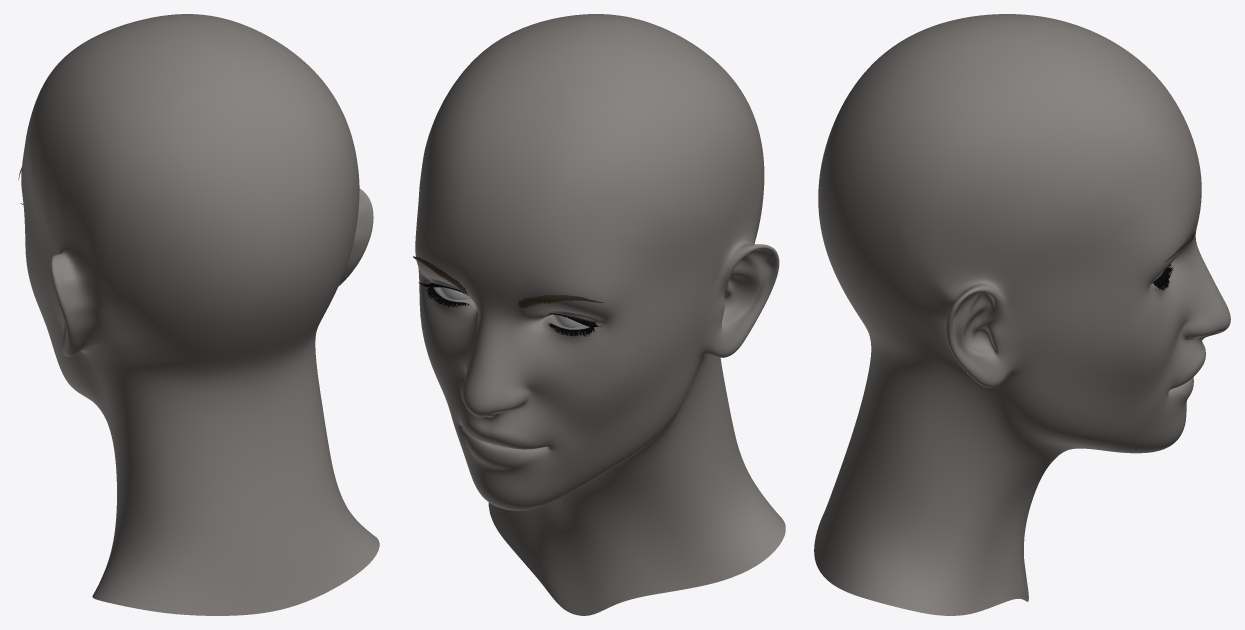
Rendered from Head.fbx.
3 renders of one model, left to right at view 1: azimuth 30°, elevation 25°; view 2: azimuth 150°, elevation 25°; view 3: azimuth 270°, elevation 25°, orthographic. The views are drawn at different scales.
Parts seen in each view (by area): view 1: Head; view 2: Head; view 3: Head.
Boxes of the visible parts, x1=… form: Head: x1=18, y1=14, x2=379, y2=615; Head: x1=413, y1=14, x2=785, y2=615; Head: x1=814, y1=14, x2=1230, y2=615.
Size of the model in its own units: 21.35 by 35.6 by 23.68.
